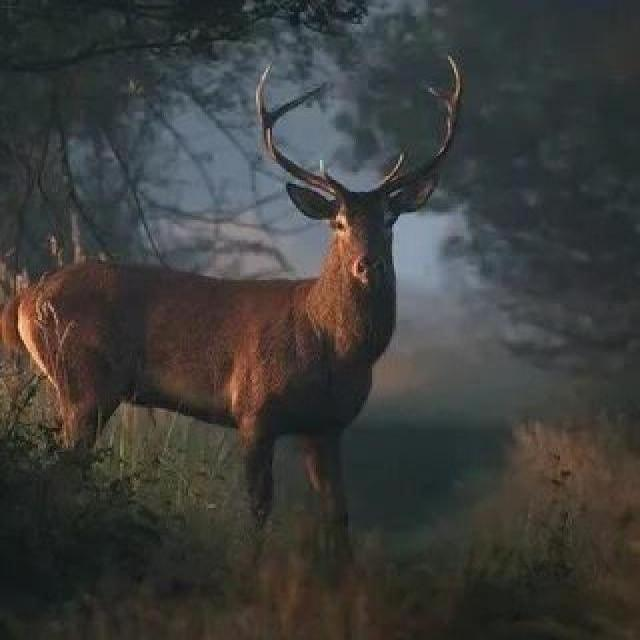deer: (34, 113, 471, 467)
